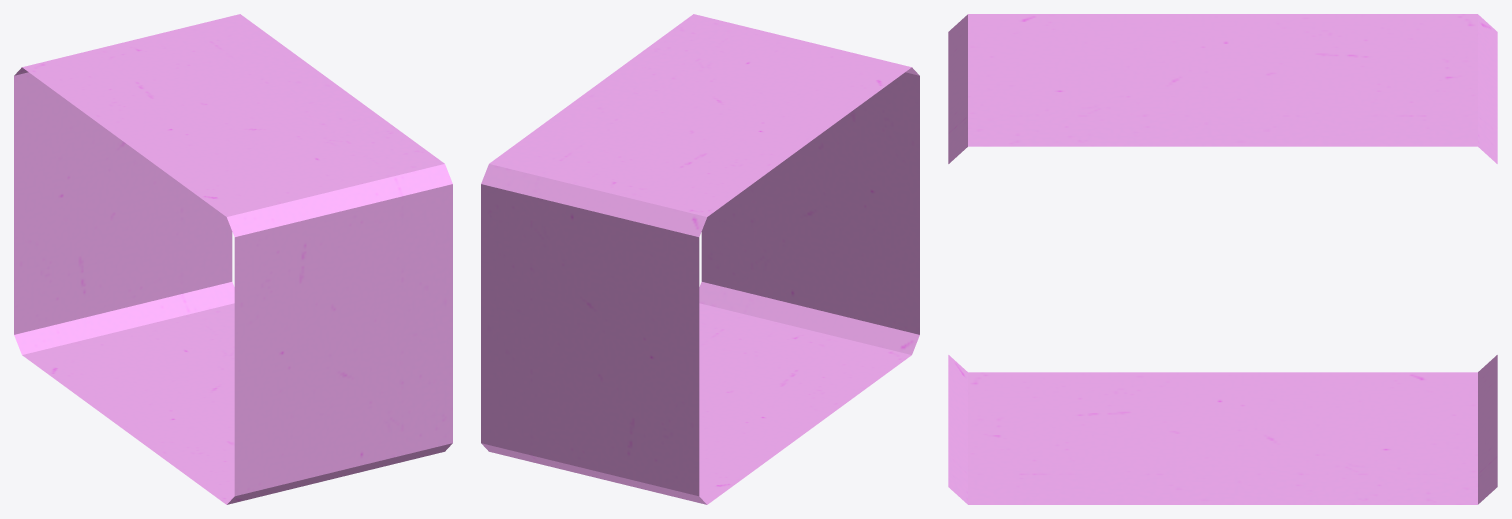
File: AirDuct_02_SM_Low.fbx
The picture shows the model from 3 angles, left to right: view 1: azimuth 30°, elevation 25°; view 2: azimuth 150°, elevation 25°; view 3: azimuth 270°, elevation 25°; orthographic projection. The views are drawn at different scales.
Parts seen in each view (by area): view 1: Baby; view 2: Baby; view 3: Baby.
Boxes of the visible parts, left/top/right/bottom form: Baby: left=14, top=14, right=452, bottom=504; Baby: left=481, top=14, right=919, bottom=504; Baby: left=948, top=14, right=1497, bottom=504.
Bounding box in the file's own units: 50.8 × 64 × 88.9.
1 material, 1 textured.
